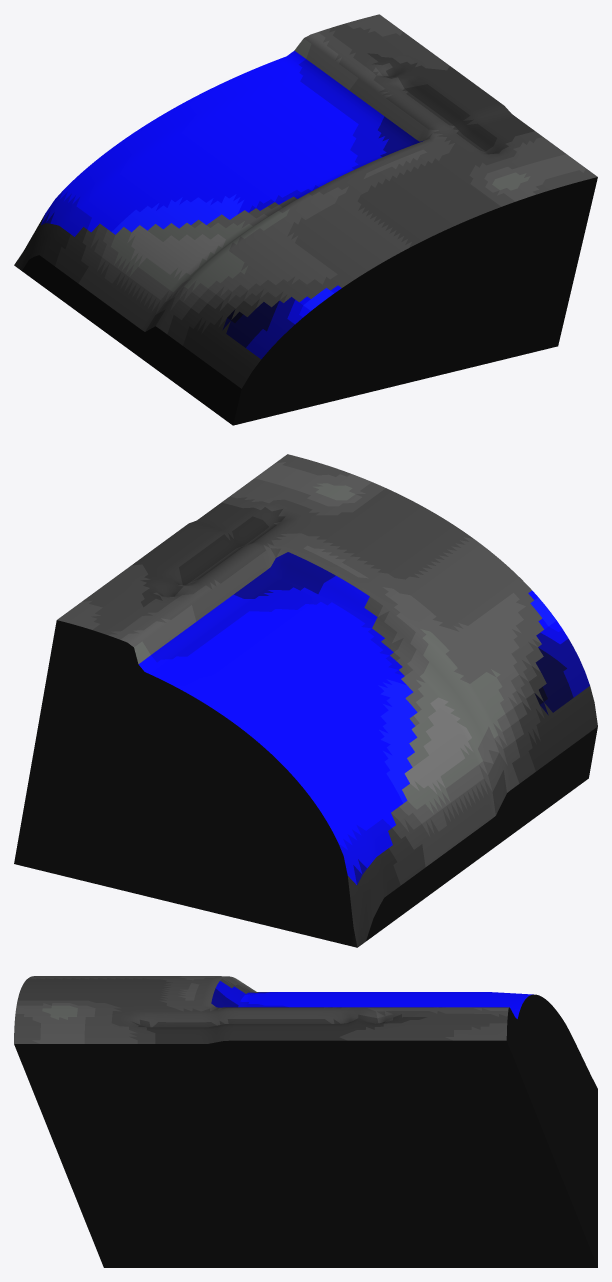
The model's file is time_capsule_54.glb.
3 views of the same model, one above another, from view 1: azimuth 30°, elevation 25°; view 2: azimuth 150°, elevation 25°; view 3: azimuth 270°, elevation 25° (orthographic). The views are drawn at different scales.
Parts seen in each view (by area): view 1: time_capsule_54; view 2: time_capsule_54; view 3: time_capsule_54.
Part boxes in pixels (left/top/right/bottom): time_capsule_54: left=14, top=14, right=597, bottom=425; time_capsule_54: left=14, top=454, right=597, bottom=947; time_capsule_54: left=14, top=976, right=597, bottom=1267.
Bounding box in the file's own units: 24 × 14.2 × 33.1.
